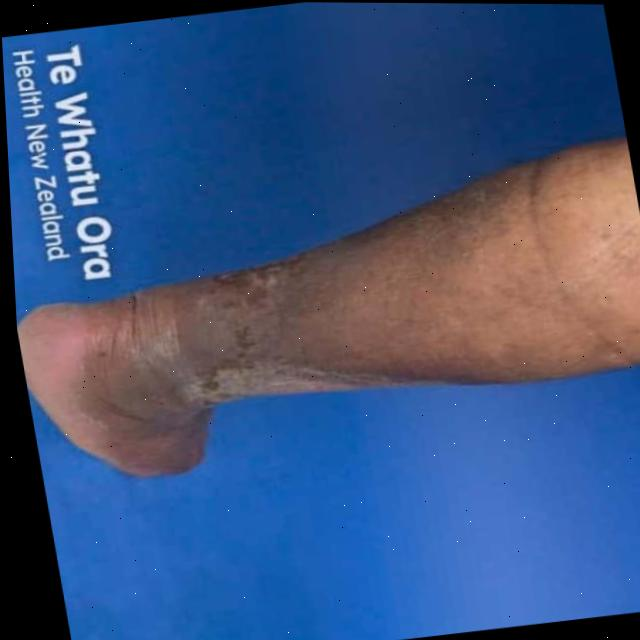Eczema: (143, 171, 576, 416)
